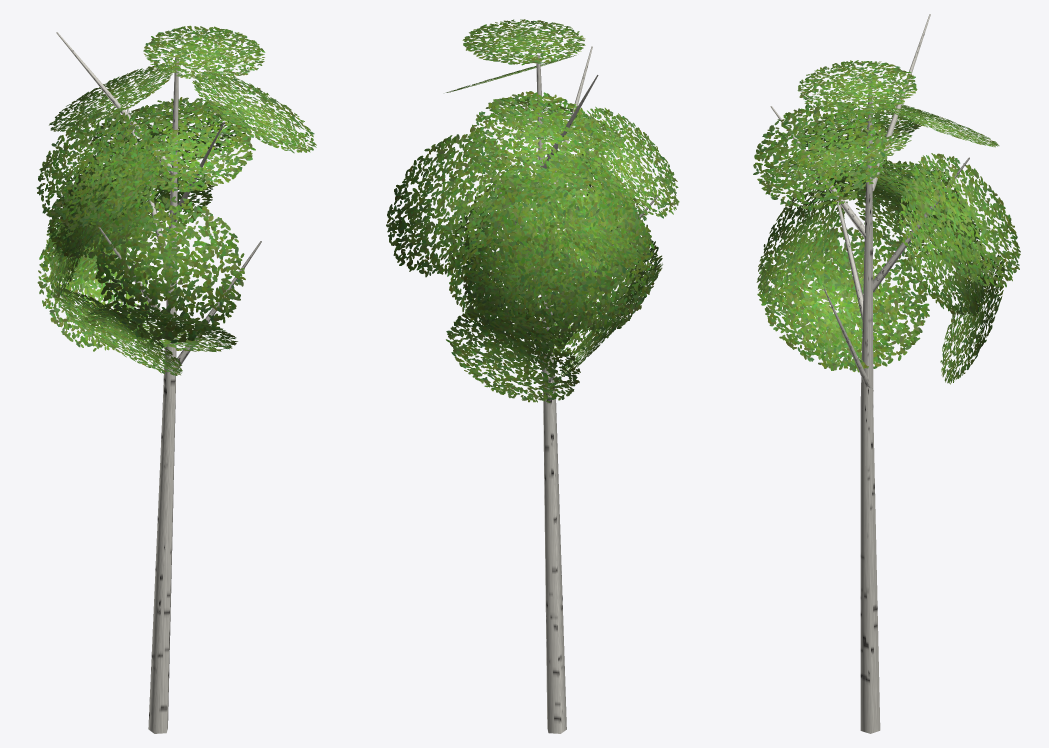
File: Birch_LOD1.fbx
3 views of the same model, side by side, from view 1: azimuth 30°, elevation 25°; view 2: azimuth 150°, elevation 25°; view 3: azimuth 270°, elevation 25° (orthographic). The views are drawn at different scales.
Parts seen in each view (by area): view 1: Birch_LOD1; view 2: Birch_LOD1; view 3: Birch_LOD1.
Boxes of the visible parts, bbox=[...] form: Birch_LOD1: bbox=[36, 25, 316, 733]; Birch_LOD1: bbox=[386, 19, 679, 733]; Birch_LOD1: bbox=[753, 14, 1020, 733].
Size of the model in its own units: 5.91 by 14.54 by 5.84.
Materials: 1 (1 with a texture image).
